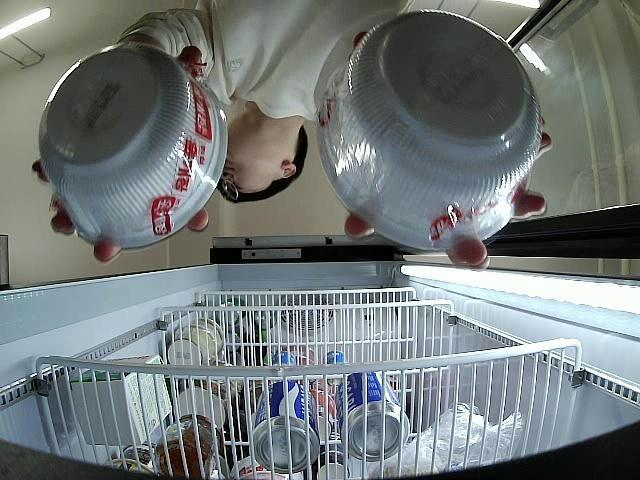09_yukGaeJang: (316, 12, 542, 250), (39, 48, 228, 252)
